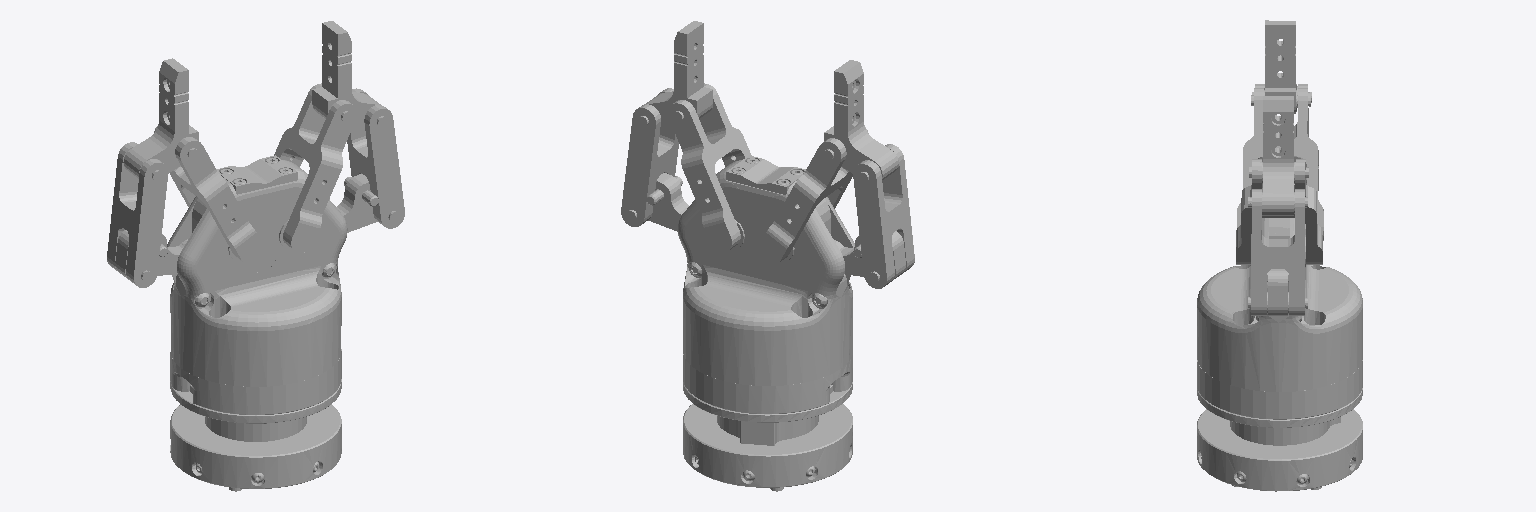
The robot description file, URDF, robot "力传感器夹爪":
<?xml version="1.0" encoding="utf-8"?>
<!-- This URDF was automatically created by SolidWorks to URDF Exporter! Originally created by [author] ([email redacted]) 
     Commit Version: 1.6.0-1-g15f4949  Build Version: 1.6.7594.29634
     For more information, please see http://wiki.ros.org/sw_urdf_exporter -->
<robot
  name="力传感器夹爪">
  <link
    name="base_link">
    <inertial>
      <origin
        xyz="0.00014828 0.0001438 0.069871"
        rpy="0 0 0" />
      <mass
        value="0.45271" />
      <inertia
        ixx="0.00024074"
        ixy="4.7394E-07"
        ixz="1.7216E-07"
        iyy="0.00026436"
        iyz="3.3768E-09"
        izz="0.00024452" />
    </inertial>
    <visual>
      <origin
        xyz="0 0 0"
        rpy="0 0 0" />
      <geometry>
        <mesh
          filename="package://力传感器夹爪/meshes/base_link.STL" />
      </geometry>
      <material
        name="">
        <color
          rgba="0.75294 0.75294 0.75294 1" />
      </material>
    </visual>
    <collision>
      <origin
        xyz="0 0 0"
        rpy="0 0 0" />
      <geometry>
        <mesh
          filename="package://力传感器夹爪/meshes/base_link.STL" />
      </geometry>
    </collision>
  </link>
</robot>

--- Facts derived from the render (not from the file) ---
The picture shows the robot from 3 angles, left to right: view 1: azimuth 30°, elevation 25°; view 2: azimuth 150°, elevation 25°; view 3: azimuth 270°, elevation 25°; orthographic projection.
Robot: 力传感器夹爪 — 1 links, 0 joints (none); root link base_link; default pose: all joints at 0.
Visible links, largest first — view 1: base_link; view 2: base_link; view 3: base_link.
Boxes of the visible links, <box> form: base_link: <box>107,21,404,491</box>; base_link: <box>621,21,914,491</box>; base_link: <box>1197,20,1362,491</box>.
Size in the robot's own frame: 0.1365 by 0.075 by 0.2028 metres.
Meshes: 1 distinct files referenced, 1 mesh visuals loaded (1 binary STL).